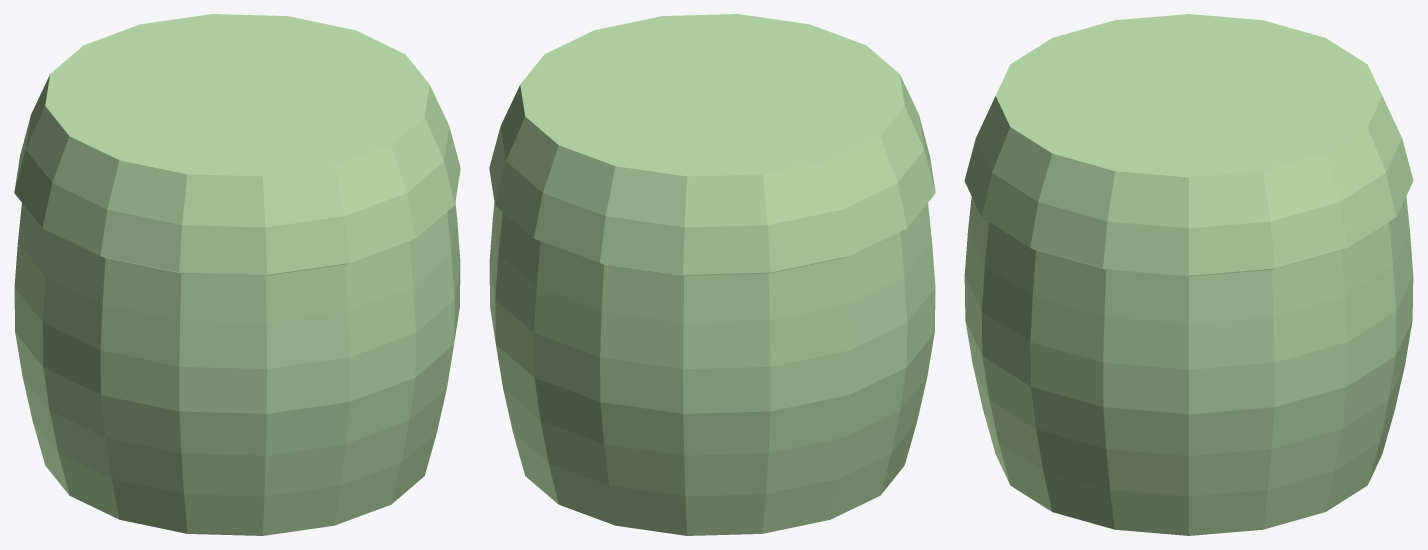
The model's file is CeladonBarrel.fbx.
The picture shows the model from 3 angles, left to right: view 1: azimuth 30°, elevation 25°; view 2: azimuth 150°, elevation 25°; view 3: azimuth 270°, elevation 25°; orthographic projection.
Parts seen in each view (by area): view 1: Cylinder; view 2: Cylinder; view 3: Cylinder.
Boxes of the visible parts, bbox=[...] form: Cylinder: bbox=[14, 14, 460, 535]; Cylinder: bbox=[489, 14, 935, 535]; Cylinder: bbox=[964, 14, 1413, 535].
Bounding box in the file's own units: 232 × 205 × 232.
